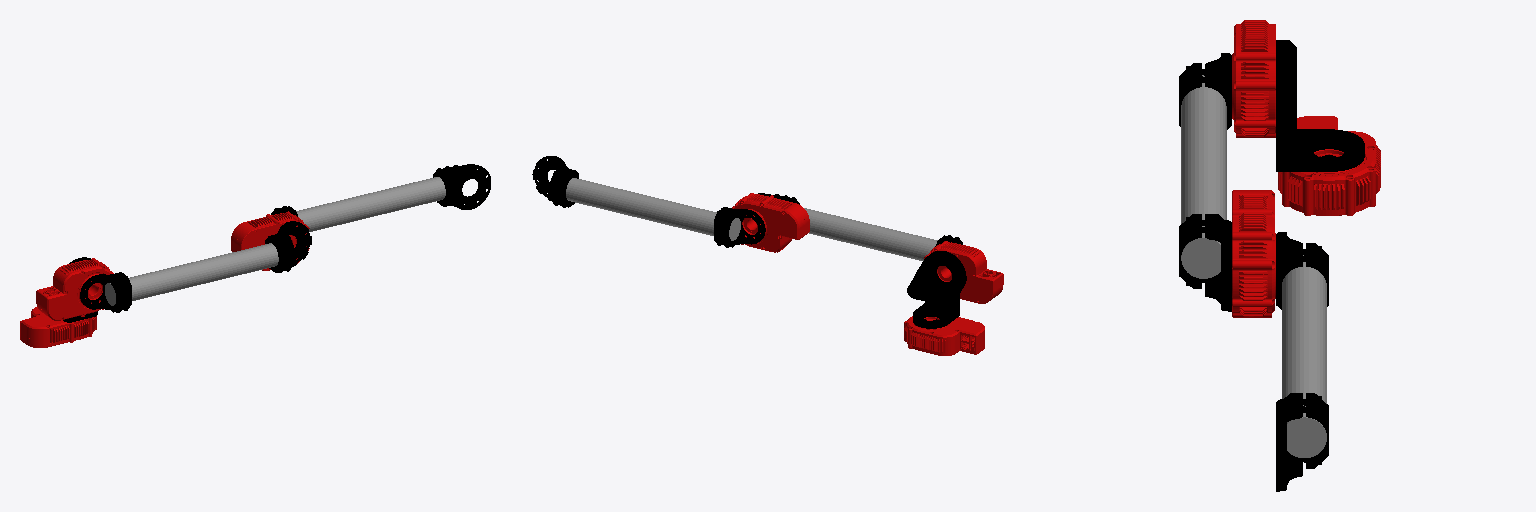
The robot description file, URDF, robot "3_dof_arm":
<?xml version="1.0" ?>
<!-- =================================================================================== -->
<!-- |    This document was autogenerated by xacro from 3_dof_arm.xacro                | -->
<!-- |    EDITING THIS FILE BY HAND IS NOT RECOMMENDED                                 | -->
<!-- =================================================================================== -->
<robot name="3_dof_arm" xmlns:xacro="http://www.ros.org/wiki/xacro">
  <!-- *************************** XACRO MACROS *************************** -->
  <!-- ************************* ROBOT DEFINITION ************************* -->
  <!-- world link -->
  <link name="world"/>
  <joint name="world_joint" type="fixed">
    <origin rpy="0 0 0" xyz="0 0 0"/>
    <parent link="world"/>
    <child link="HEBI/joint1/INPUT_INTERFACE"/>
  </joint>
  <link name="HEBI/joint1/INPUT_INTERFACE">
    <visual>
      <origin rpy="0 0 0" xyz="0 0 0"/>
      <geometry>
        <mesh filename="package://hebiros_description/meshes/x5.stl" scale="0.001 0.001 0.001"/>
      </geometry>
      <material name="red">
        <color rgba=".82 0.06 0.06 1"/>
      </material>
    </visual>
    <collision>
      <origin rpy="0 0 0" xyz="0 0 0"/>
      <geometry>
        <mesh filename="package://hebiros_description/meshes/x5.stl" scale="0.001 0.001 0.001"/>
      </geometry>
    </collision>
    <inertial>
      <origin rpy="0 0 0" xyz="-0.0142 -0.0031 0.0165"/>
      <mass value="0.335"/>
      <inertia ixx="0.00015" ixy="0.0000341" ixz="0.0000118" iyy="0.000255" iyz="0.00000229" izz="0.000350"/>
    </inertial>
  </link>
  <joint name="HEBI/joint1/X5_4" type="continuous">
    <parent link="HEBI/joint1/INPUT_INTERFACE"/>
    <child link="joint1_joint2/INPUT_INTERFACE"/>
    <origin rpy="0 0 0" xyz="0 0 0.031"/>
    <axis xyz="0 0 1"/>
    <limit effort="7.0" velocity="32"/>
    <dynamics damping="0.1" friction="0.1"/>
  </joint>
  <gazebo reference="HEBI/joint1/INPUT_INTERFACE">
    <selfCollide>true</selfCollide>
    <gravity>true</gravity>
    <sensor name="HEBI/joint1/imu_sensor" type="imu">
      <always_on>true</always_on>
      <update_rate>100</update_rate>
      <visualize>true</visualize>
      <plugin filename="libgazebo_ros_imu_sensor.so" name="imu_plugin">
        <topicName>/hebiros_gazebo_plugin/imu/HEBI/joint1</topicName>
        <bodyName>HEBI/joint1/imu_link</bodyName>
        <updateRateHZ>10.0</updateRateHZ>
        <gaussianNoise>0.0</gaussianNoise>
        <xyzOffset>0.025 0 0.003</xyzOffset>
        <rpyOffset>0 0 0</rpyOffset>
        <frameName>HEBI/joint1/imu_link</frameName>
      </plugin>
      <pose>0 0 0 0 0 0</pose>
    </sensor>
    <material>Gazebo/BlueGlow</material>
  </gazebo>
  <link name="joint1_joint2/INPUT_INTERFACE">
    <visual>
      <origin rpy="1.57079632679 0 1.57079632679" xyz="0 0 0.005"/>
      <geometry>
        <mesh filename="package://hebiros_description/meshes/PM-2149-01.stl" scale="0.001 0.001 0.001"/>
      </geometry>
      <material name="black">
        <color rgba="0 0 0 1"/>
      </material>
    </visual>
    <visual>
      <origin rpy="1.57079632679 0 0" xyz="0 -.03 .04"/>
      <geometry>
        <mesh filename="package://hebiros_description/meshes/PM-2150-01R.stl" scale="0.001 0.001 0.001"/>
      </geometry>
      <material name="black">
        <color rgba="0 0 0 1"/>
      </material>
    </visual>
    <collision>
      <origin rpy="1.57079632679 0 1.57079632679" xyz="0 0 0.005"/>
      <geometry>
        <mesh filename="package://hebiros_description/meshes/PM-2149-01.stl" scale="0.001 0.001 0.001"/>
      </geometry>
    </collision>
    <collision>
      <origin rpy="1.57079632679 0 0" xyz="0 -.03 .04"/>
      <geometry>
        <mesh filename="package://hebiros_description/meshes/PM-2150-01R.stl" scale="0.001 0.001 0.001"/>
      </geometry>
    </collision>
    <!-- NOTE: inertia is just modelled as small sphere, and could be improved. -->
    <inertial>
      <origin rpy="0 0 0" xyz="0 -0.01875 .0275"/>
      <mass value="0.215"/>
      <inertia ixx="0.0003096" ixy="0.0" ixz="0.0" iyy="0.0003096" iyz="0.0" izz="0.0003096"/>
    </inertial>
  </link>
  <joint name="joint1_joint2/OUTPUT_INTERFACE" type="fixed">
    <parent link="joint1_joint2/INPUT_INTERFACE"/>
    <child link="HEBI/joint2/INPUT_INTERFACE"/>
    <origin rpy="1.57079632679 0 0" xyz="0 -.0375 .055"/>
  </joint>
  <gazebo reference="joint1_joint2/INPUT_INTERFACE">
    <selfCollide>true</selfCollide>
  </gazebo>
  <link name="HEBI/joint2/INPUT_INTERFACE">
    <visual>
      <origin rpy="0 0 0" xyz="0 0 0"/>
      <geometry>
        <mesh filename="package://hebiros_description/meshes/x5.stl" scale="0.001 0.001 0.001"/>
      </geometry>
      <material name="red">
        <color rgba=".82 0.06 0.06 1"/>
      </material>
    </visual>
    <collision>
      <origin rpy="0 0 0" xyz="0 0 0"/>
      <geometry>
        <mesh filename="package://hebiros_description/meshes/x5.stl" scale="0.001 0.001 0.001"/>
      </geometry>
    </collision>
    <inertial>
      <origin rpy="0 0 0" xyz="-0.0142 -0.0031 0.0165"/>
      <mass value="0.335"/>
      <inertia ixx="0.00015" ixy="0.0000341" ixz="0.0000118" iyy="0.000255" iyz="0.00000229" izz="0.000350"/>
    </inertial>
  </link>
  <joint name="HEBI/joint2/X5_4" type="continuous">
    <parent link="HEBI/joint2/INPUT_INTERFACE"/>
    <child link="joint2_joint3/INPUT_INTERFACE"/>
    <origin rpy="0 0 0" xyz="0 0 0.031"/>
    <axis xyz="0 0 1"/>
    <limit effort="7.0" velocity="32"/>
    <dynamics damping="0.1" friction="0.1"/>
  </joint>
  <gazebo reference="HEBI/joint2/INPUT_INTERFACE">
    <selfCollide>true</selfCollide>
    <gravity>true</gravity>
    <sensor name="HEBI/joint2/imu_sensor" type="imu">
      <always_on>true</always_on>
      <update_rate>100</update_rate>
      <visualize>true</visualize>
      <plugin filename="libgazebo_ros_imu_sensor.so" name="imu_plugin">
        <topicName>/hebiros_gazebo_plugin/imu/HEBI/joint2</topicName>
        <bodyName>HEBI/joint2/imu_link</bodyName>
        <updateRateHZ>10.0</updateRateHZ>
        <gaussianNoise>0.0</gaussianNoise>
        <xyzOffset>0.025 0 0.003</xyzOffset>
        <rpyOffset>0 0 0</rpyOffset>
        <frameName>HEBI/joint2/imu_link</frameName>
      </plugin>
      <pose>0 0 0 0 0 0</pose>
    </sensor>
    <material>Gazebo/BlueGlow</material>
  </gazebo>
  <link name="joint2_joint3/INPUT_INTERFACE">
    <visual>
      <origin rpy="0 0 0" xyz="0 0 0"/>
      <geometry>
        <mesh filename="package://hebiros_description/meshes/A-2038-02.stl"/>
      </geometry>
      <material name="black">
        <color rgba="0 0 0 1"/>
      </material>
    </visual>
    <visual>
      <origin rpy="0 1.57075 0" xyz="0.15 0 0.02"/>
      <geometry>
        <cylinder length="0.2746" radius=".016"/>
      </geometry>
      <material name="silver">
        <color rgba="0.6 0.6 0.6 1"/>
      </material>
    </visual>
    <visual>
      <origin rpy="-3.14159265359 0 0" xyz="0.3 -2.44929359829e-18 0.0"/>
      <geometry>
        <mesh filename="package://hebiros_description/meshes/A-2039-02.stl"/>
      </geometry>
      <material name="black">
        <color rgba="0 0 0 1"/>
      </material>
    </visual>
    <collision>
      <origin rpy="0 0 0" xyz="0 0 0"/>
      <geometry>
        <mesh filename="package://hebiros_description/meshes/A-2038-02.stl"/>
      </geometry>
    </collision>
    <collision>
      <origin rpy="0 1.57075 0" xyz="0.15 0 0.02"/>
      <geometry>
        <cylinder length="0.2746" radius=".016"/>
      </geometry>
    </collision>
    <collision>
      <origin rpy="-3.14159265359 0 0" xyz="0.3 -2.44929359829e-18 0.0"/>
      <geometry>
        <mesh filename="package://hebiros_description/meshes/A-2039-02.stl"/>
      </geometry>
    </collision>
    <!-- Approximate inertia as thin rod about x axis -->
    <inertial>
      <origin rpy="0 0 0" xyz="0.15 0 0.02"/>
      <mass value="0.392"/>
      <inertia ixx="0.0" ixy="0.0" ixz="0.0" iyy="0.00294" iyz="0.0" izz="0.00294"/>
    </inertial>
  </link>
  <joint name="joint2_joint3/OUTPUT_JOINT" type="fixed">
    <parent link="joint2_joint3/INPUT_INTERFACE"/>
    <child link="HEBI/joint3/INPUT_INTERFACE"/>
    <origin rpy="3.14159265359 0 0" xyz="0.3 -2.44929359829e-18 0.0"/>
  </joint>
  <gazebo reference="joint2_joint3/INPUT_INTERFACE">
    <selfCollide>true</selfCollide>
    <material>Gazebo/FlatBlack</material>
  </gazebo>
  <link name="HEBI/joint3/INPUT_INTERFACE">
    <visual>
      <origin rpy="0 0 0" xyz="0 0 0"/>
      <geometry>
        <mesh filename="package://hebiros_description/meshes/x5.stl" scale="0.001 0.001 0.001"/>
      </geometry>
      <material name="red">
        <color rgba=".82 0.06 0.06 1"/>
      </material>
    </visual>
    <collision>
      <origin rpy="0 0 0" xyz="0 0 0"/>
      <geometry>
        <mesh filename="package://hebiros_description/meshes/x5.stl" scale="0.001 0.001 0.001"/>
      </geometry>
    </collision>
    <inertial>
      <origin rpy="0 0 0" xyz="-0.0142 -0.0031 0.0165"/>
      <mass value="0.335"/>
      <inertia ixx="0.00015" ixy="0.0000341" ixz="0.0000118" iyy="0.000255" iyz="0.00000229" izz="0.000350"/>
    </inertial>
  </link>
  <joint name="HEBI/joint3/X5_4" type="continuous">
    <parent link="HEBI/joint3/INPUT_INTERFACE"/>
    <child link="joint3_end/INPUT_INTERFACE"/>
    <origin rpy="0 0 0" xyz="0 0 0.031"/>
    <axis xyz="0 0 1"/>
    <limit effort="7.0" velocity="32"/>
    <dynamics damping="0.1" friction="0.1"/>
  </joint>
  <gazebo reference="HEBI/joint3/INPUT_INTERFACE">
    <selfCollide>true</selfCollide>
    <gravity>true</gravity>
    <sensor name="HEBI/joint3/imu_sensor" type="imu">
      <always_on>true</always_on>
      <update_rate>100</update_rate>
      <visualize>true</visualize>
      <plugin filename="libgazebo_ros_imu_sensor.so" name="imu_plugin">
        <topicName>/hebiros_gazebo_plugin/imu/HEBI/joint3</topicName>
        <bodyName>HEBI/joint3/imu_link</bodyName>
        <updateRateHZ>10.0</updateRateHZ>
        <gaussianNoise>0.0</gaussianNoise>
        <xyzOffset>0.025 0 0.003</xyzOffset>
        <rpyOffset>0 0 0</rpyOffset>
        <frameName>HEBI/joint3/imu_link</frameName>
      </plugin>
      <pose>0 0 0 0 0 0</pose>
    </sensor>
    <material>Gazebo/BlueGlow</material>
  </gazebo>
  <link name="joint3_end/INPUT_INTERFACE">
    <visual>
      <origin rpy="0 0 0" xyz="0 0 0"/>
      <geometry>
        <mesh filename="package://hebiros_description/meshes/A-2038-02.stl"/>
      </geometry>
      <material name="black">
        <color rgba="0 0 0 1"/>
      </material>
    </visual>
    <visual>
      <origin rpy="0 1.57075 0" xyz="0.15 0 0.02"/>
      <geometry>
        <cylinder length="0.2746" radius=".016"/>
      </geometry>
      <material name="silver">
        <color rgba="0.6 0.6 0.6 1"/>
      </material>
    </visual>
    <visual>
      <origin rpy="-3.14159265359 0 0" xyz="0.3 -2.44929359829e-18 0.0"/>
      <geometry>
        <mesh filename="package://hebiros_description/meshes/A-2039-02.stl"/>
      </geometry>
      <material name="black">
        <color rgba="0 0 0 1"/>
      </material>
    </visual>
    <collision>
      <origin rpy="0 0 0" xyz="0 0 0"/>
      <geometry>
        <mesh filename="package://hebiros_description/meshes/A-2038-02.stl"/>
      </geometry>
    </collision>
    <collision>
      <origin rpy="0 1.57075 0" xyz="0.15 0 0.02"/>
      <geometry>
        <cylinder length="0.2746" radius=".016"/>
      </geometry>
    </collision>
    <collision>
      <origin rpy="-3.14159265359 0 0" xyz="0.3 -2.44929359829e-18 0.0"/>
      <geometry>
        <mesh filename="package://hebiros_description/meshes/A-2039-02.stl"/>
      </geometry>
    </collision>
    <!-- Approximate inertia as thin rod about x axis -->
    <inertial>
      <origin rpy="0 0 0" xyz="0.15 0 0.02"/>
      <mass value="0.392"/>
      <inertia ixx="0.0" ixy="0.0" ixz="0.0" iyy="0.00294" iyz="0.0" izz="0.00294"/>
    </inertial>
  </link>
  <joint name="joint3_end/OUTPUT_JOINT" type="fixed">
    <parent link="joint3_end/INPUT_INTERFACE"/>
    <child link="end_effector/INPUT_INTERFACE"/>
    <origin rpy="3.14159265359 0 0" xyz="0.3 -2.44929359829e-18 0.0"/>
  </joint>
  <gazebo reference="joint3_end/INPUT_INTERFACE">
    <selfCollide>true</selfCollide>
    <material>Gazebo/FlatBlack</material>
  </gazebo>
  <!-- end link -->
  <link name="end_effector/INPUT_INTERFACE">
  </link>
  <gazebo>
    <plugin filename="libhebiros_gazebo_plugin.so" name="hebiros_gazebo_plugin">
    </plugin>
  </gazebo>
</robot>

--- Render facts (derived) ---
Views: 3 orthographic renders of the robot side by side, from view 1: azimuth 30°, elevation 25°; view 2: azimuth 150°, elevation 25°; view 3: azimuth 270°, elevation 25°.
Model 3_dof_arm with 8 links and 7 joints (3 continuous, 4 fixed), rooted at world, posed all joints at 0.
Visible links, largest first — view 1: joint2_joint3/INPUT_INTERFACE, joint3_end/INPUT_INTERFACE, HEBI/joint2/INPUT_INTERFACE, HEBI/joint1/INPUT_INTERFACE, HEBI/joint3/INPUT_INTERFACE; view 2: joint3_end/INPUT_INTERFACE, joint2_joint3/INPUT_INTERFACE, joint1_joint2/INPUT_INTERFACE, HEBI/joint3/INPUT_INTERFACE, HEBI/joint1/INPUT_INTERFACE, HEBI/joint2/INPUT_INTERFACE; view 3: joint2_joint3/INPUT_INTERFACE, joint3_end/INPUT_INTERFACE, HEBI/joint3/INPUT_INTERFACE, HEBI/joint1/INPUT_INTERFACE, joint1_joint2/INPUT_INTERFACE, HEBI/joint2/INPUT_INTERFACE.
Link boxes in pixels (x1,y1,x2,y2): joint2_joint3/INPUT_INTERFACE: (80,221,311,312); joint3_end/INPUT_INTERFACE: (271,164,490,231); HEBI/joint2/INPUT_INTERFACE: (36,258,113,320); HEBI/joint1/INPUT_INTERFACE: (20,307,96,347); HEBI/joint3/INPUT_INTERFACE: (231,211,309,270); joint3_end/INPUT_INTERFACE: (532,156,765,247); joint2_joint3/INPUT_INTERFACE: (758,193,962,260); joint1_joint2/INPUT_INTERFACE: (907,251,966,328); HEBI/joint3/INPUT_INTERFACE: (732,193,809,252); HEBI/joint1/INPUT_INTERFACE: (904,316,984,355); HEBI/joint2/INPUT_INTERFACE: (924,241,1003,303); joint2_joint3/INPUT_INTERFACE: (1179,53,1231,311); joint3_end/INPUT_INTERFACE: (1276,232,1328,491); HEBI/joint3/INPUT_INTERFACE: (1232,190,1275,317); HEBI/joint1/INPUT_INTERFACE: (1278,116,1380,215); joint1_joint2/INPUT_INTERFACE: (1276,40,1364,171); HEBI/joint2/INPUT_INTERFACE: (1232,20,1275,137).
Bounding box of the posed robot: 0.7056 × 0.1425 × 0.1225 m (x, y, z).
Meshes: 5 distinct files referenced, 9 mesh visuals loaded (5 binary STL).